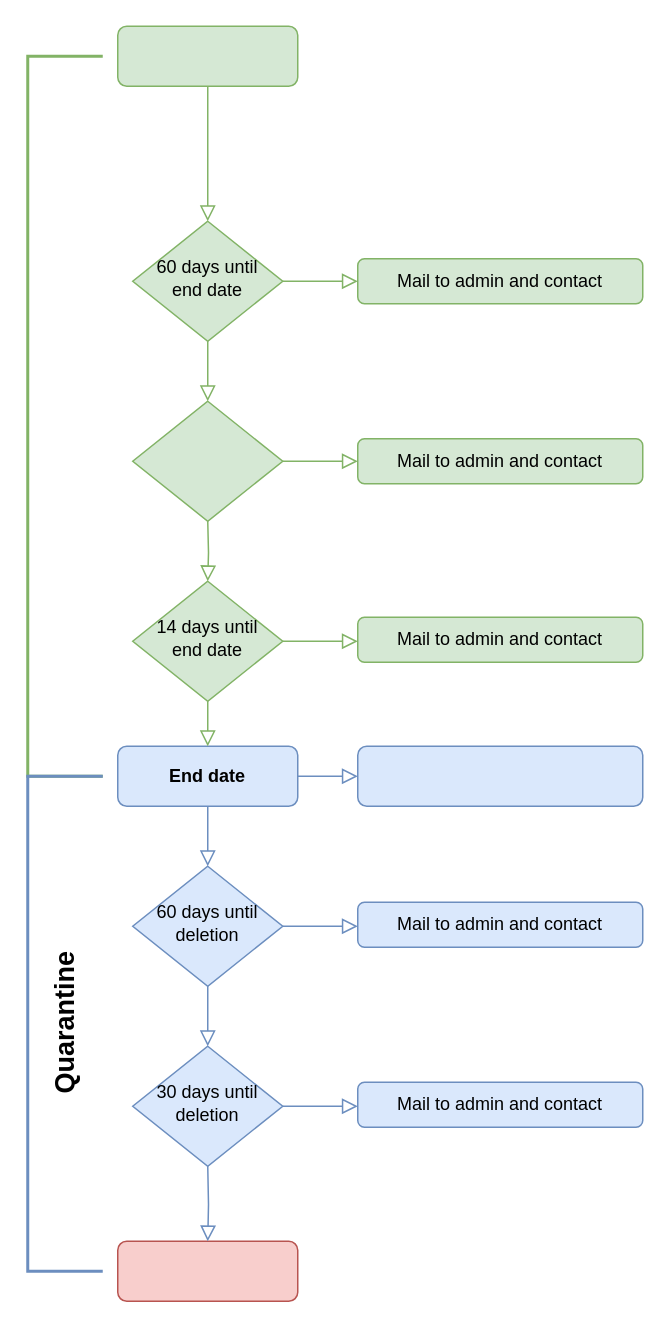
Some shapes in this 669 by 1328 pixel diagram are drawn without their labels. The shapes that lost their labels are listed below. From the top down, each one's box as (x1, y1, x2, y2) in pixels, then its label:
(116, 25, 298, 86): Project is created
(26, 54, 104, 777): Normal operation
(131, 400, 283, 521): 30 days until end date
(356, 745, 643, 806): Project enters quarantine Mail to admin and contact
(116, 1240, 298, 1301): Project deletion
